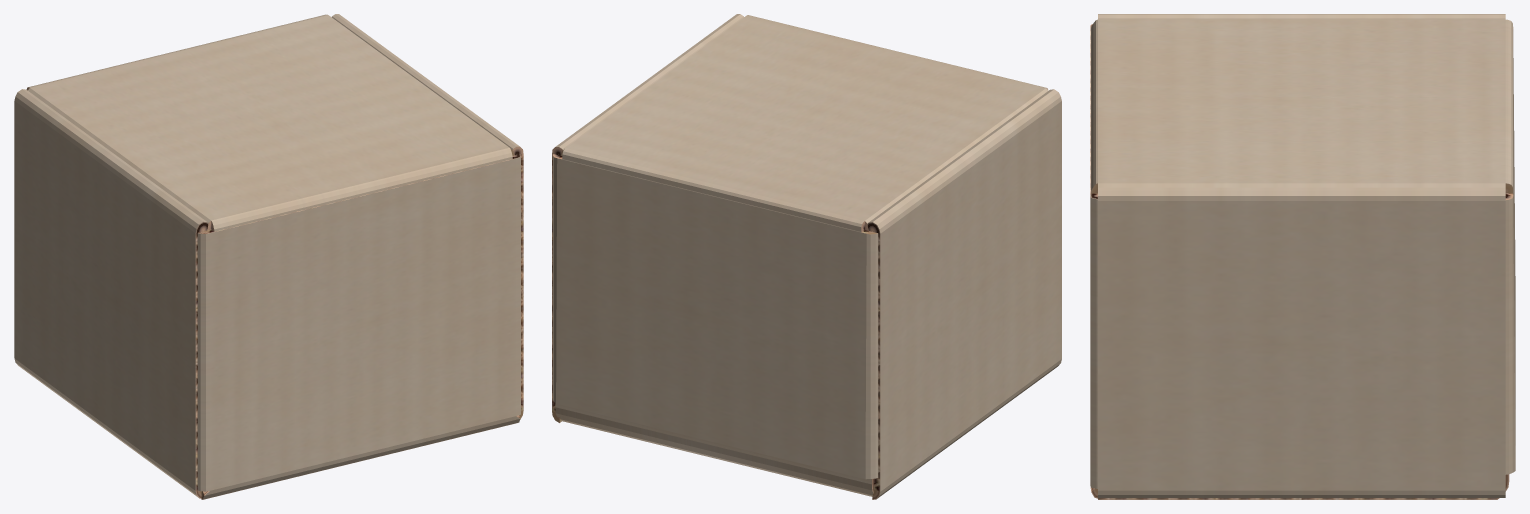
The model's file is cardboard9x9x5.gltf.
3 views of the same model, side by side, from view 1: azimuth 30°, elevation 25°; view 2: azimuth 150°, elevation 25°; view 3: azimuth 270°, elevation 25° (orthographic). The views are drawn at different scales.
Parts seen in each view (by area): view 1: Cube.002; view 2: Cube.002; view 3: Cube.002.
Boxes of the visible parts, x1=… form: Cube.002: x1=14, y1=14, x2=523, y2=499; Cube.002: x1=552, y1=14, x2=1061, y2=499; Cube.002: x1=1090, y1=14, x2=1515, y2=499.
Bounding box in the file's own units: 3 × 2.43 × 3.
2 materials, 2 textured.
